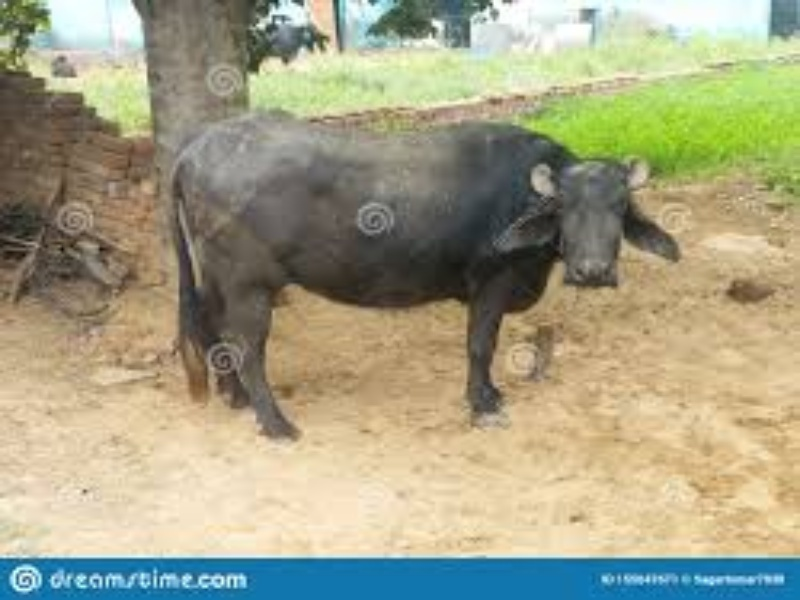buffalo: (157, 96, 687, 449)
